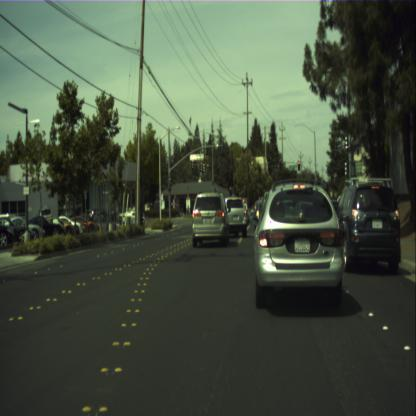Red: (298, 160, 300, 170), (230, 187, 232, 194)
